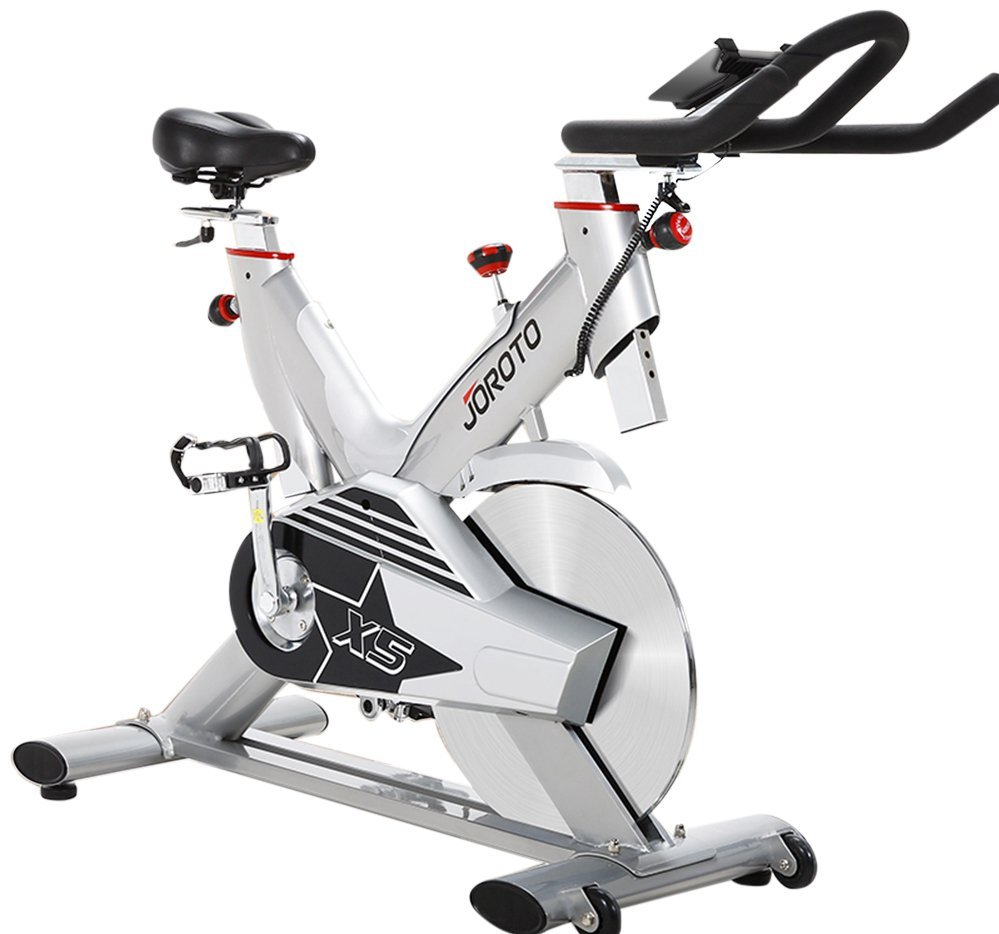gym_bike: (17, 8, 999, 934)
